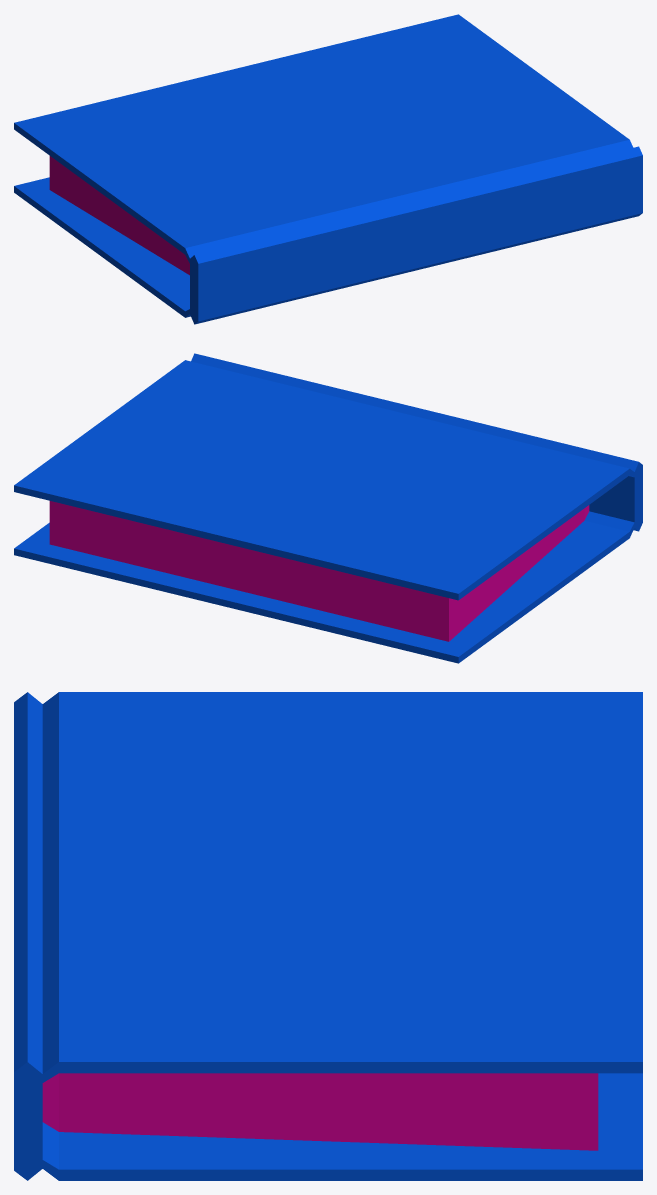
File: BookClosed.fbx
3 renders of one model, top to bottom at view 1: azimuth 30°, elevation 25°; view 2: azimuth 150°, elevation 25°; view 3: azimuth 270°, elevation 25°, orthographic. The views are drawn at different scales.
Parts seen in each view (by area): view 1: pasted__pCube2; view 2: pasted__pCube2; view 3: pasted__pCube2.
Boxes of the visible parts, x1,y1,x2,y2 form: pasted__pCube2: [14, 14, 642, 324]; pasted__pCube2: [14, 353, 642, 663]; pasted__pCube2: [14, 692, 642, 1180].
Bounding box in the file's own units: 4.65 × 0.6963 × 3.34.
